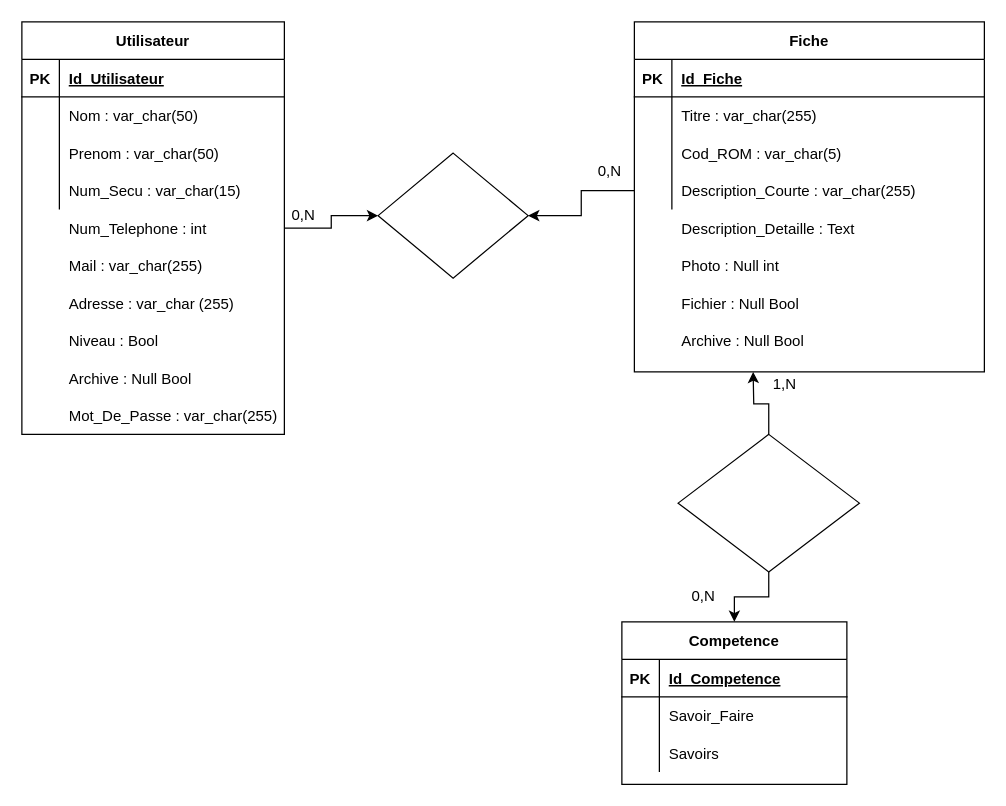
This 1006x806 diagram has some shape labels left out. Each missing label, with the centre of its shape:
"Utilise Id_Fiche Id_Competence" belongs at pixel 768 502.
"Utilise Id_Utilisateur Id_Fiche" belongs at pixel 452 215.
